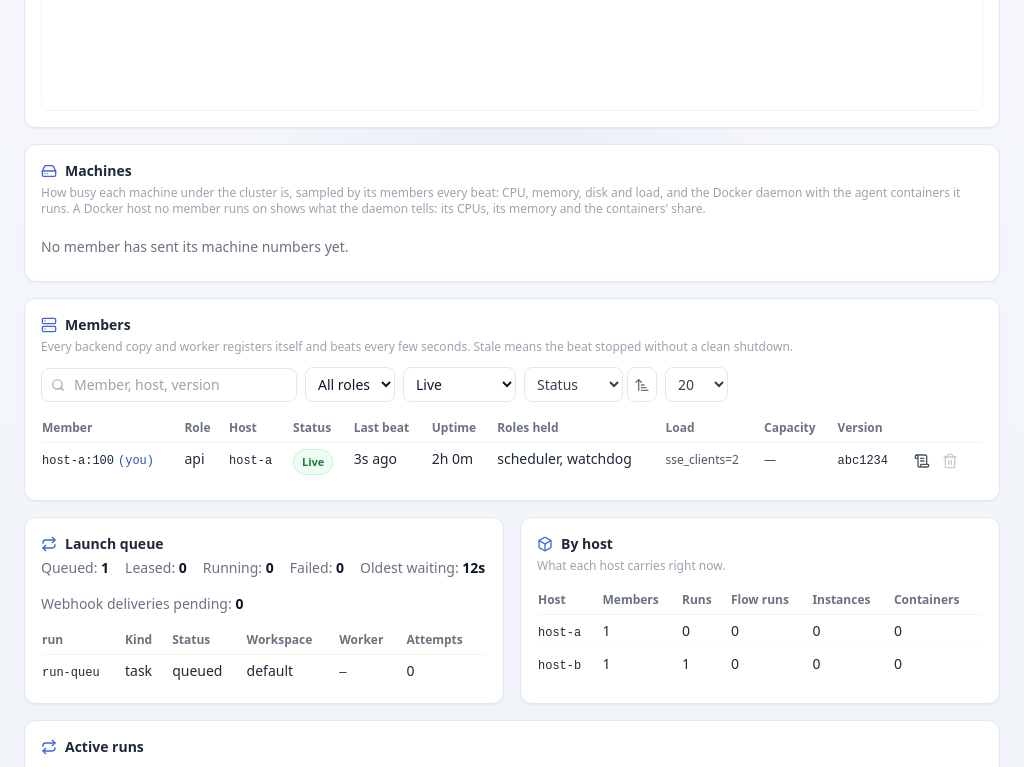
Test: Cluster map › shows live members by default and the rest on request
This screenshot has width=1024, height=767.
(page scrolled)
Expected: the text "host-a:100" is shown, [42,454,114,468]
Expected: the text "worker-b" is not shown
Select "All statuses" in the dropdown named "Status". click: (460, 384)
box: [403,367,516,402]
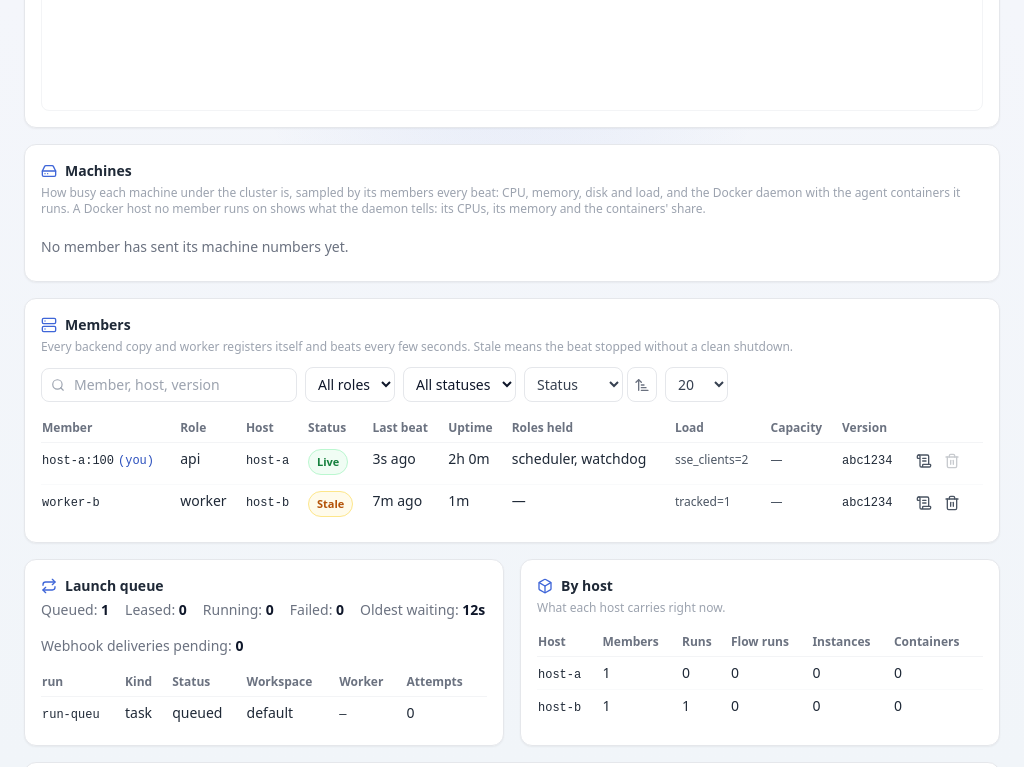
Expected: the text "worker-b" is shown, [42,496,100,510]
